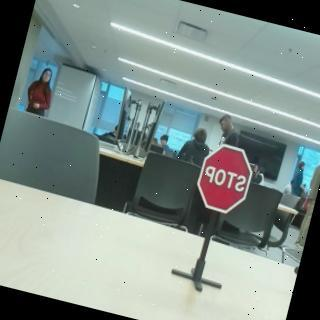sign_stop: (192, 140, 259, 218)
